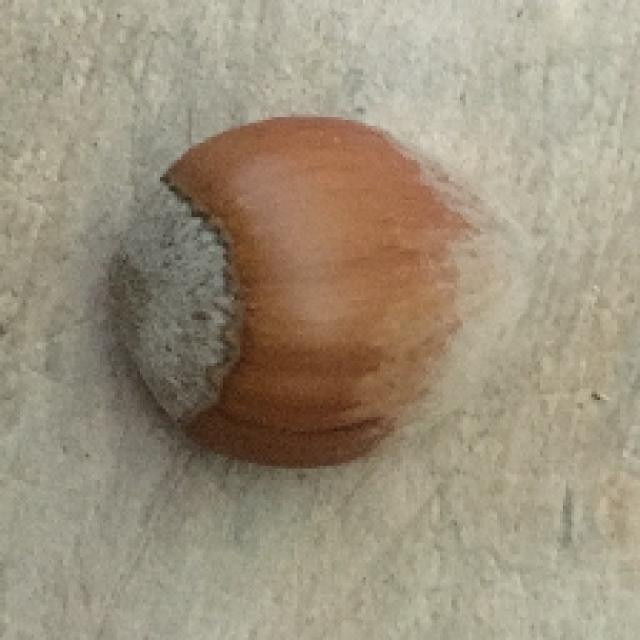qualityHazelnut: (88, 115, 544, 466)
